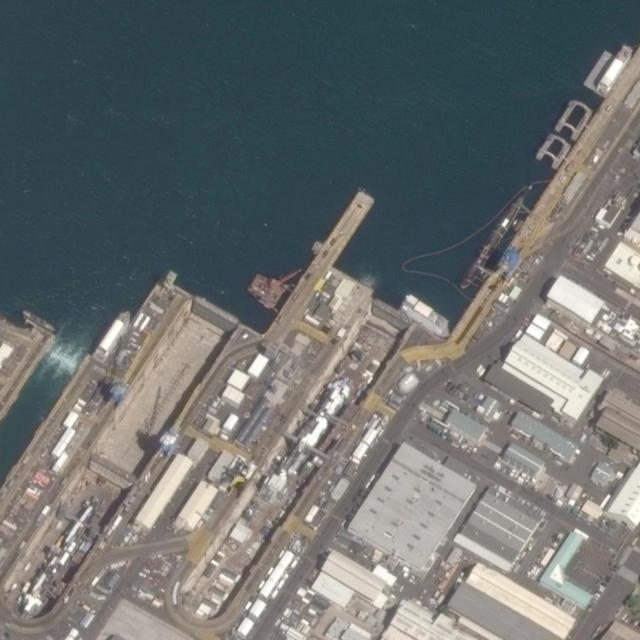Dock: (314, 187, 378, 267)
Submarine: (458, 195, 524, 290)
